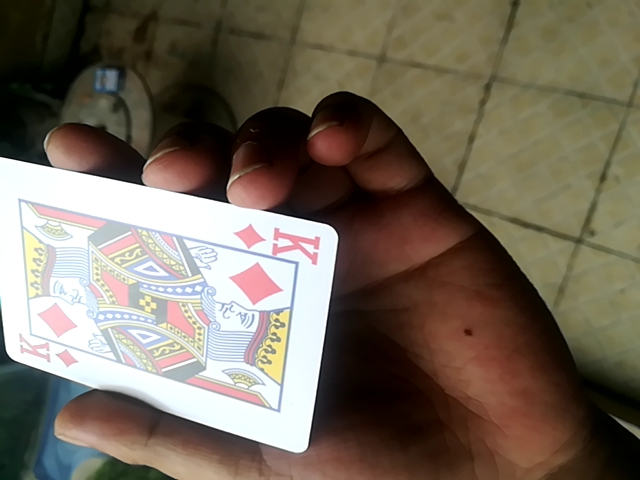fk k: (1, 144, 344, 457)
